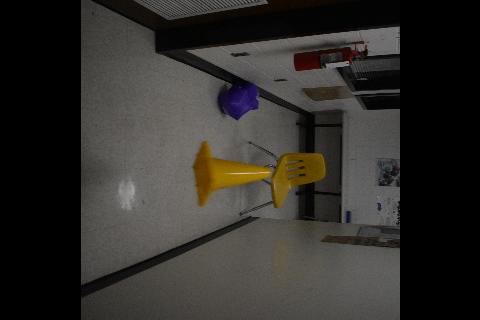cone: (190, 140, 272, 208)
cube: (216, 85, 253, 121), (227, 82, 259, 110)
